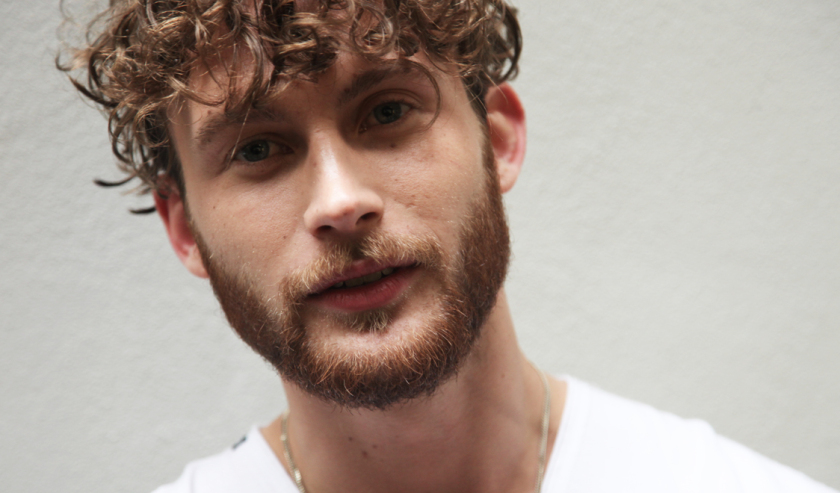bare: (183, 189, 508, 396)
